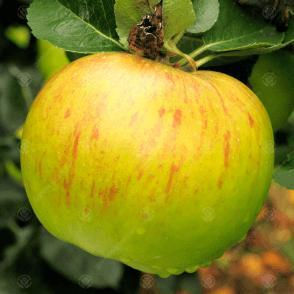apple: (19, 47, 273, 281)
